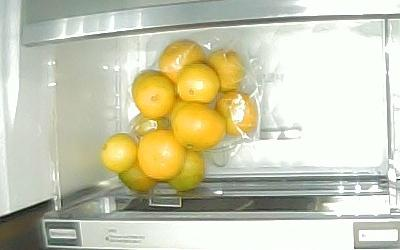tangerine: (138, 129, 187, 181), (177, 61, 219, 104), (134, 74, 174, 118), (168, 151, 206, 190), (100, 133, 137, 171), (119, 163, 158, 194)
tangerine_vinyl: (216, 91, 262, 136), (160, 39, 207, 82), (206, 49, 248, 90), (129, 113, 173, 138)
